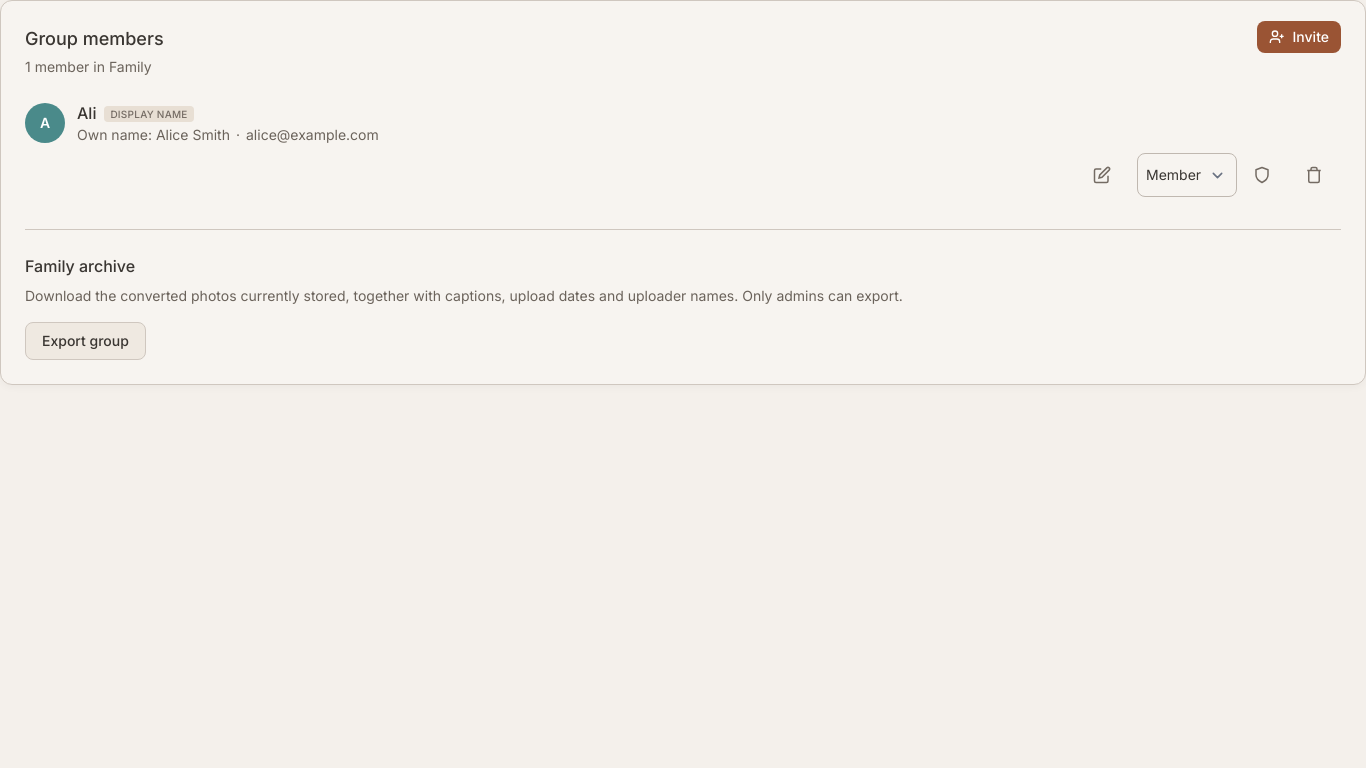
Test: MembersList display names › names what clearing an override reverts to, and never offers it for editing
Check: the text "Ali" is shown, box [77,103,96,123]
Click the button named "Set Ali's display name in Family" at (1107, 175), box [1085,153,1129,197]
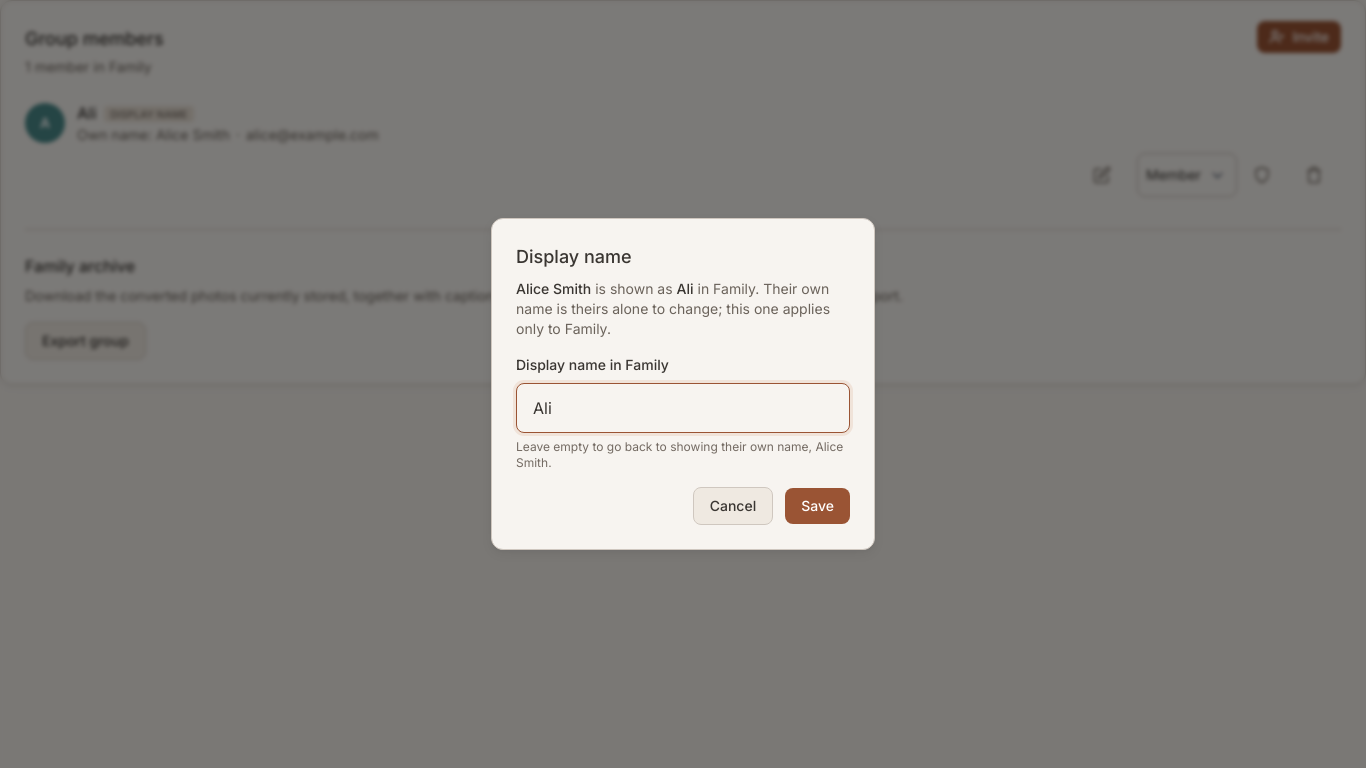
Check: the text "is shown as" shows "Alice Smith is shown as Ali in Family. Their own name is theirs alone to change; this one applies only to Family.", box [516,279,850,339]
Check: the text "Leave empty to go back to showing their own name, Alice Smith." is shown, box [516,439,850,471]
Check: the field labelled "Display name in Family" holds "Ali", box [516,383,850,433]
